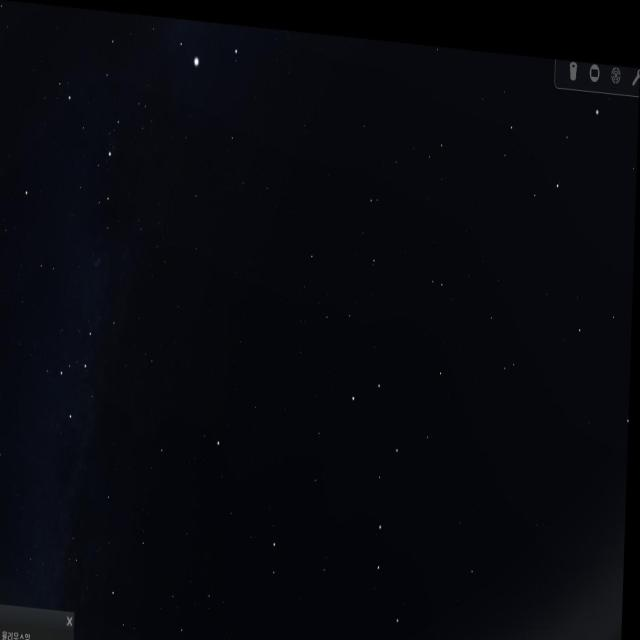cassiopeia: (51, 288, 123, 438)
ursa_major: (338, 363, 421, 626)
